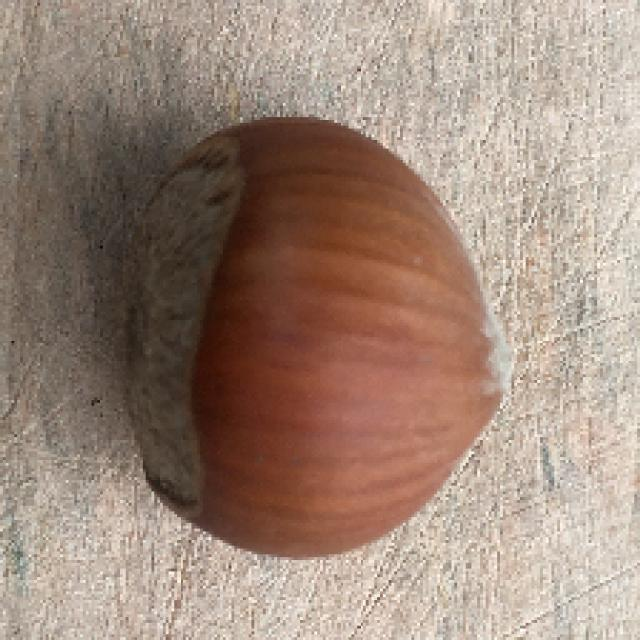DamagedHazelnut: (126, 118, 505, 557)
